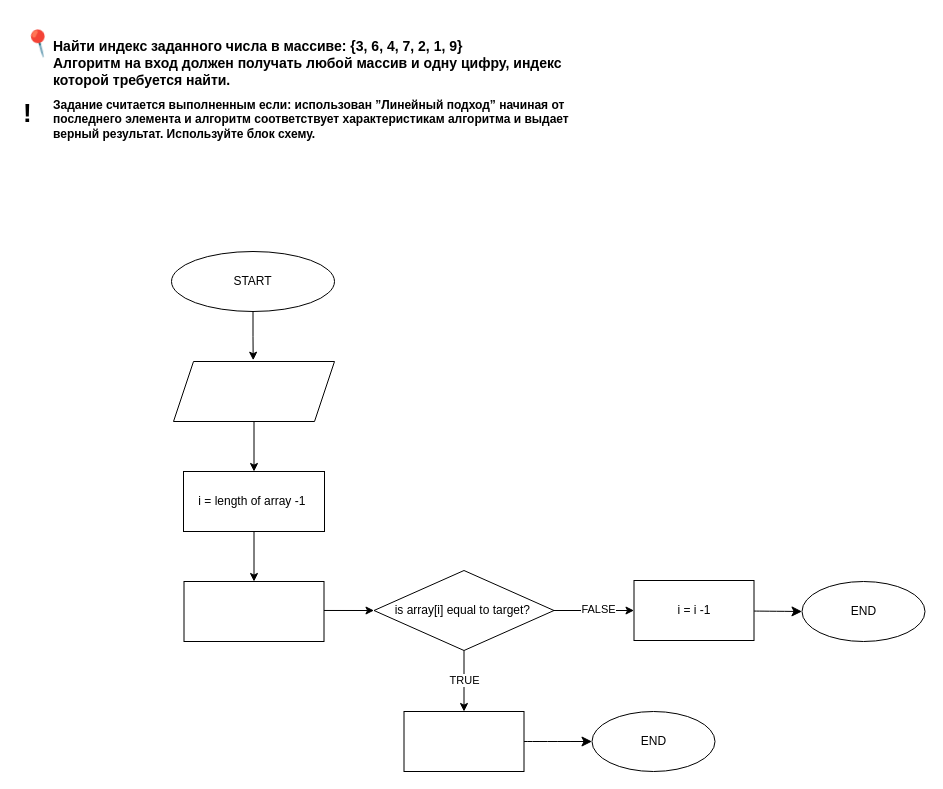
Image size: 943x789. Some labels were removed from this diagram. Here are the shapes that lost their labels. From the top down, the centre of each, then its label:
the point at 253,391: arrays = {3, 6, 4, 7, 2, 1, 9}
the point at 253,611: target = 4
the point at 463,741: Output i
